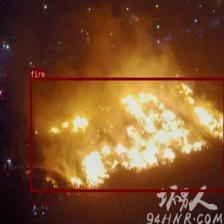fire: (30, 77, 224, 191)
